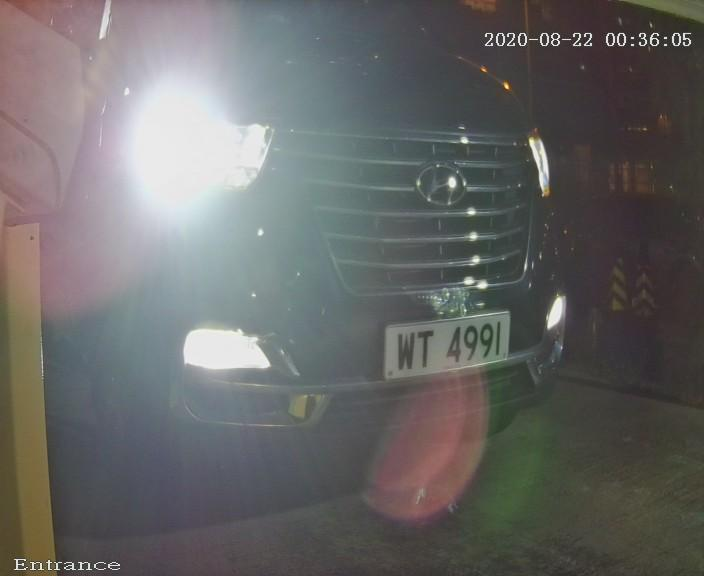Car: (1, 11, 661, 523)
License Plate: (368, 296, 519, 394)
